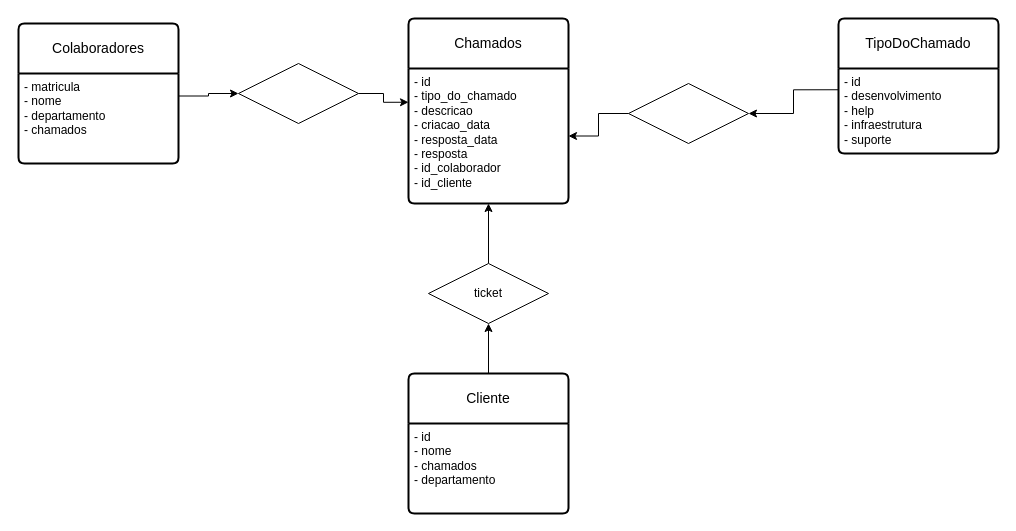
The diagram is 1016 pixels wide and 531 high, and some of its shapes have lost their labels. The shapes that lost their labels are listed below. From the top down, each one's centre as x and y in pixels, then its label:
At pixel 298 93: "resposta".
At pixel 688 113: "tipo do chamado".
